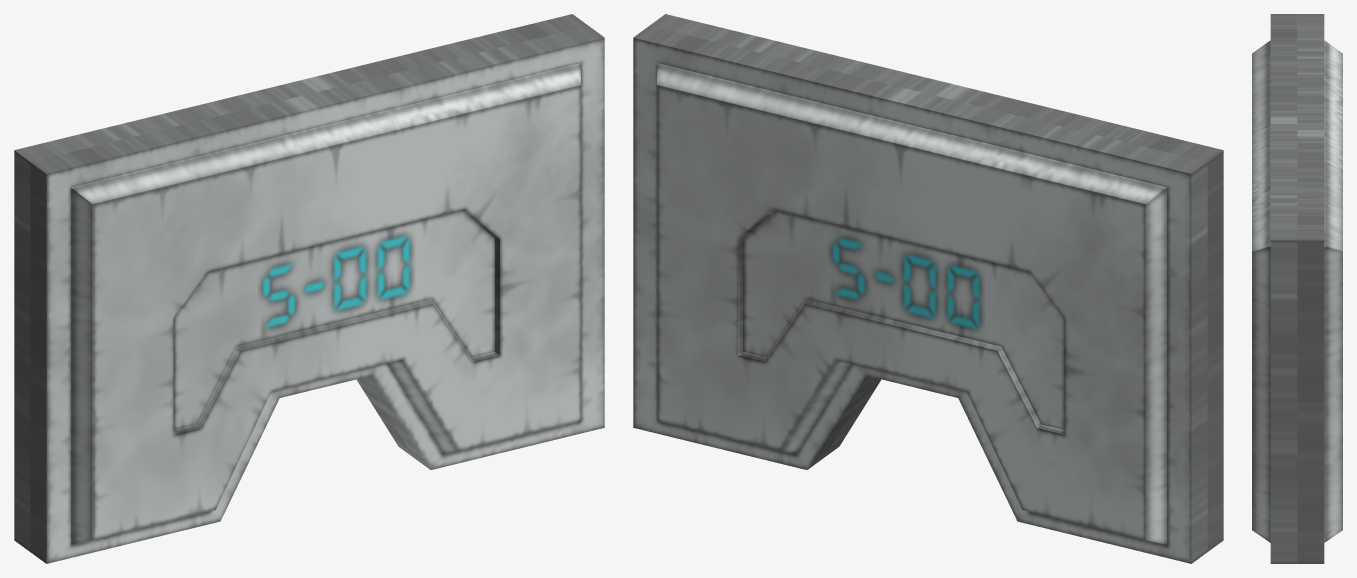
File: doorup00.fbx
The picture shows the model from 3 angles, left to right: view 1: azimuth 30°, elevation 25°; view 2: azimuth 150°, elevation 25°; view 3: azimuth 270°, elevation 25°; orthographic projection. The views are drawn at different scales.
Parts seen in each view (by area): view 1: doorup; view 2: doorup; view 3: doorup.
Boxes of the visible parts, x1,y1,x2,y2 form: doorup: (14,14,604,563); doorup: (633,14,1223,563); doorup: (1252,14,1342,563).
Bounding box in the file's own units: 174 × 116 × 29.47.
